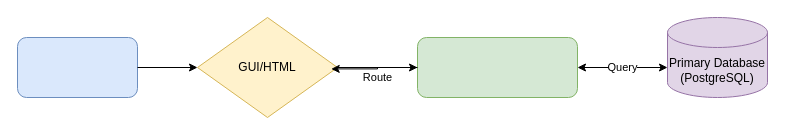
This 785x135 diagram has some shape labels left out. Here are the shapes that lost their labels. From the top down, the centre of each, then its label:
the point at 77,67: Client (Web/Mobile)
the point at 497,67: Application Server (REST)
